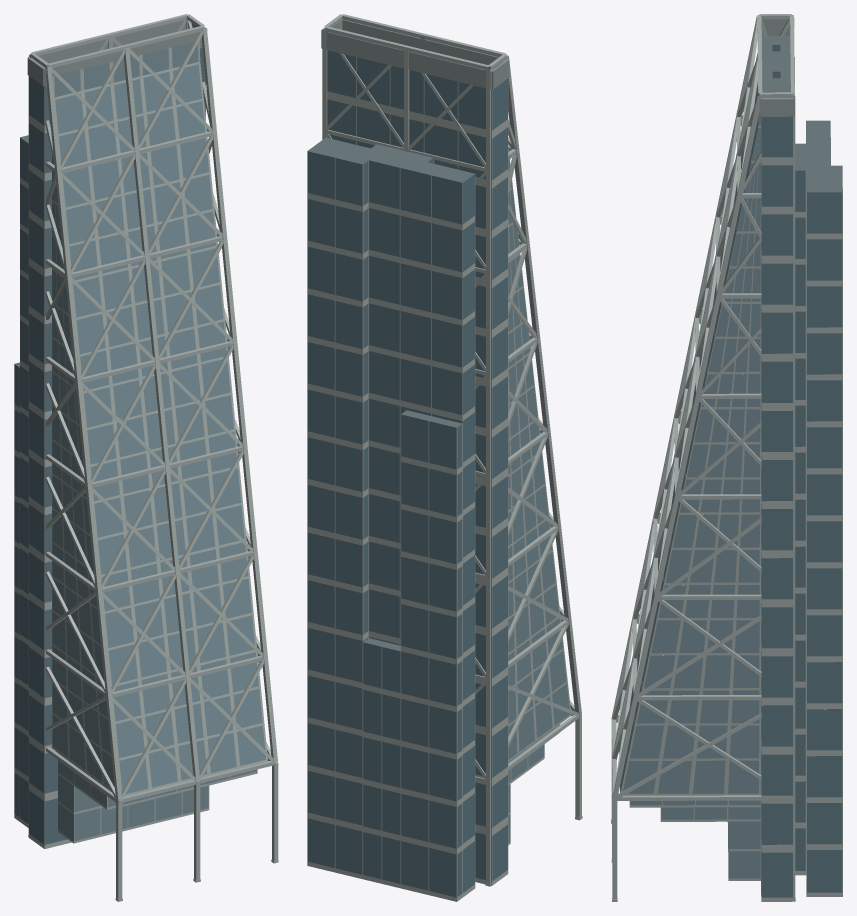
Rendered from 122-leadenhall-street-far.glb.
3 renders of one model, left to right at view 1: azimuth 30°, elevation 25°; view 2: azimuth 150°, elevation 25°; view 3: azimuth 270°, elevation 25°, orthographic. The views are drawn at different scales.
Parts seen in each view (by area): view 1: 122-leadenhall-street-0-glass, 122-leadenhall-street-0-steel, 122-leadenhall-street-0-backglass, 122-leadenhall-street-0-service; view 2: 122-leadenhall-street-0-backglass, 122-leadenhall-street-0-steel, 122-leadenhall-street-0-glass, 122-leadenhall-street-0-service, 122-leadenhall-street-0-roof; view 3: 122-leadenhall-street-0-steel, 122-leadenhall-street-0-backglass, 122-leadenhall-street-0-glass, 122-leadenhall-street-0-roof, 122-leadenhall-street-0-service.
Boxes of the visible parts, <box> form: 122-leadenhall-street-0-glass: <box>52,42,265,840</box>; 122-leadenhall-street-0-steel: <box>14,14,278,901</box>; 122-leadenhall-street-0-backglass: <box>14,48,205,844</box>; 122-leadenhall-street-0-service: <box>27,20,207,86</box>; 122-leadenhall-street-0-backglass: <box>308,50,507,897</box>; 122-leadenhall-street-0-steel: <box>307,14,582,901</box>; 122-leadenhall-street-0-glass: <box>508,148,569,842</box>; 122-leadenhall-street-0-service: <box>321,19,509,89</box>; 122-leadenhall-street-0-roof: <box>308,137,474,651</box>; 122-leadenhall-street-0-steel: <box>611,14,842,901</box>; 122-leadenhall-street-0-backglass: <box>761,116,842,897</box>; 122-leadenhall-street-0-glass: <box>620,55,760,878</box>; 122-leadenhall-street-0-roof: <box>635,35,842,725</box>; 122-leadenhall-street-0-service: <box>759,19,794,116</box>.
Size of the model in its own units: 49.24 by 225 by 58.42.
